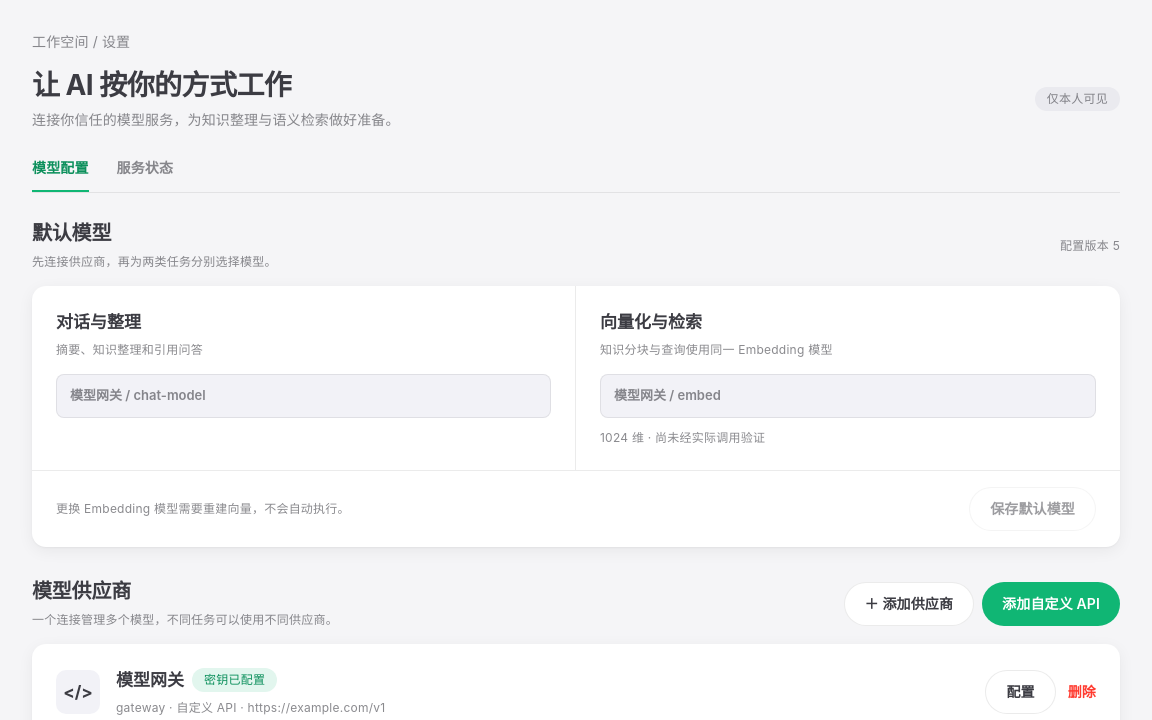
Test: ModelSettings › loads real configuration and does not show simulated service success
Click the button "服务状态" at (145, 175), box [117,158,173,192]
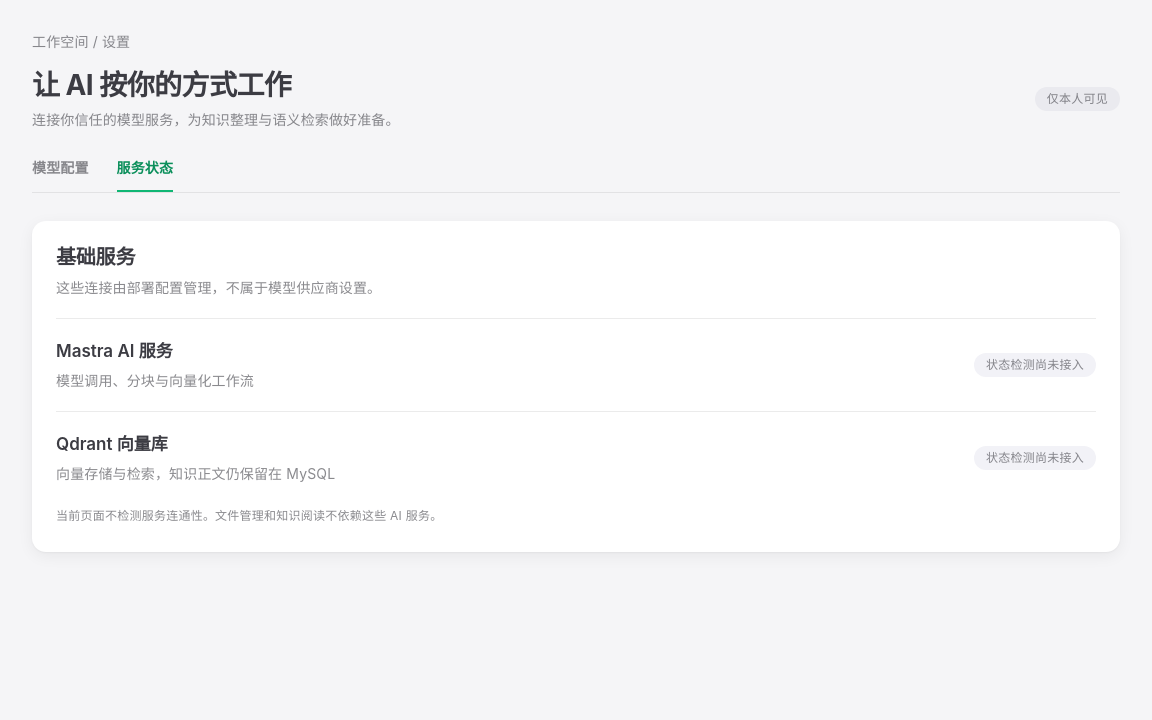
Expected: the text "状态检测尚未接入" is shown, [974,353,1096,377]
